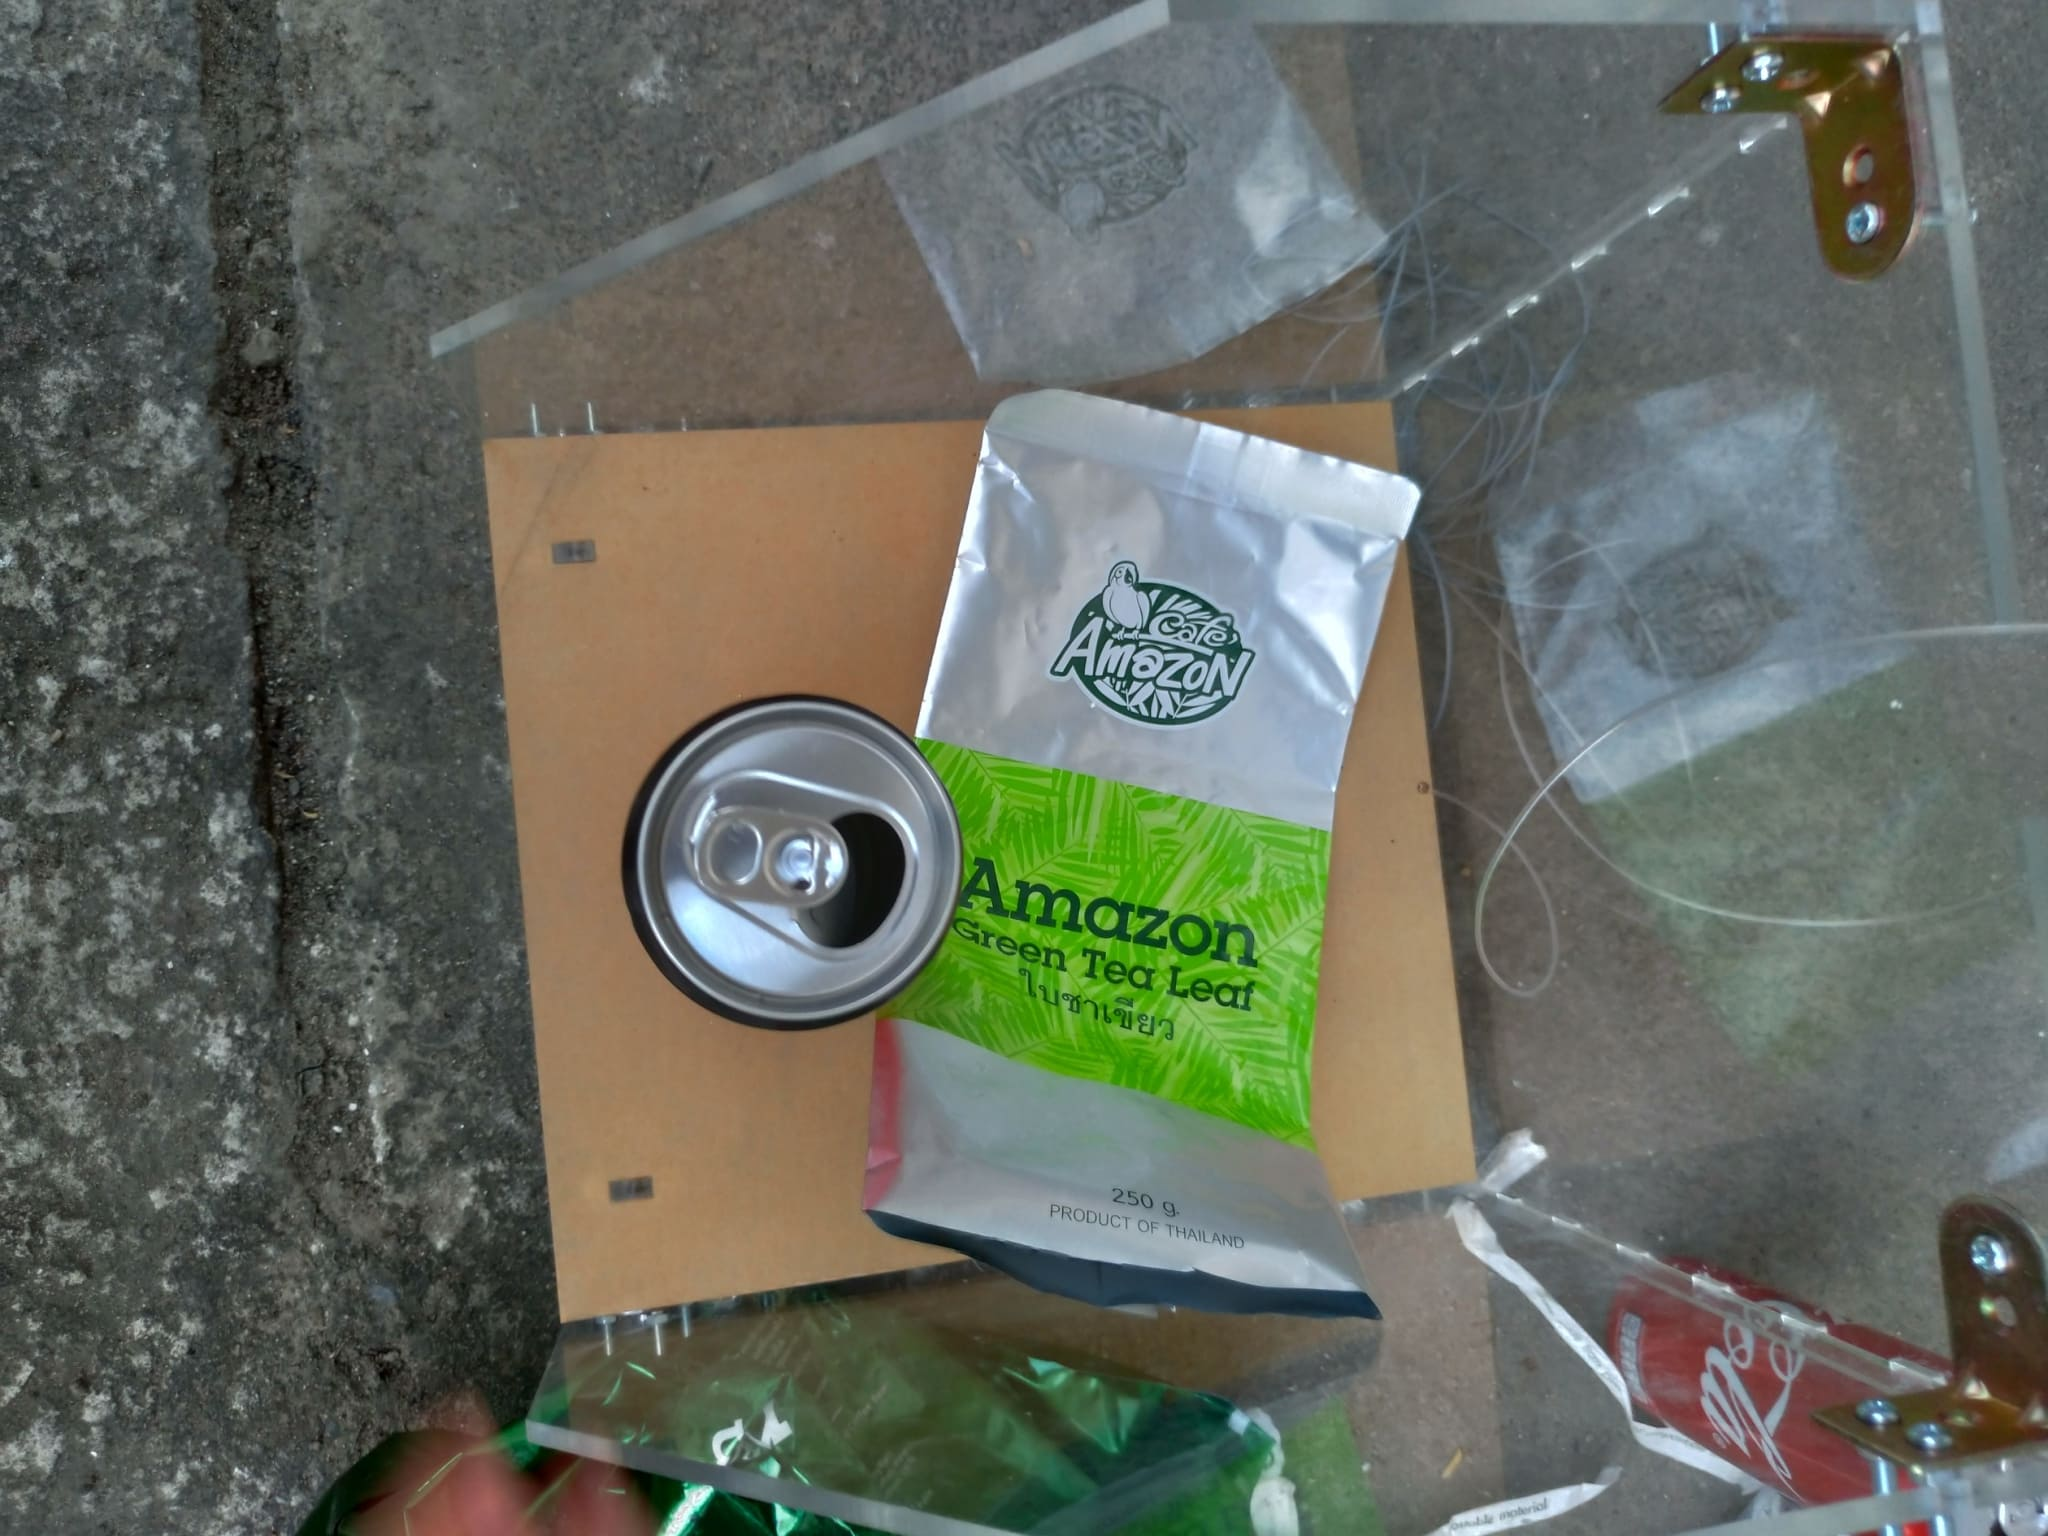AlCan: (1596, 1270, 2042, 1536), (622, 694, 953, 1028)
Others: (868, 379, 1376, 1331), (495, 1276, 1277, 1536)
